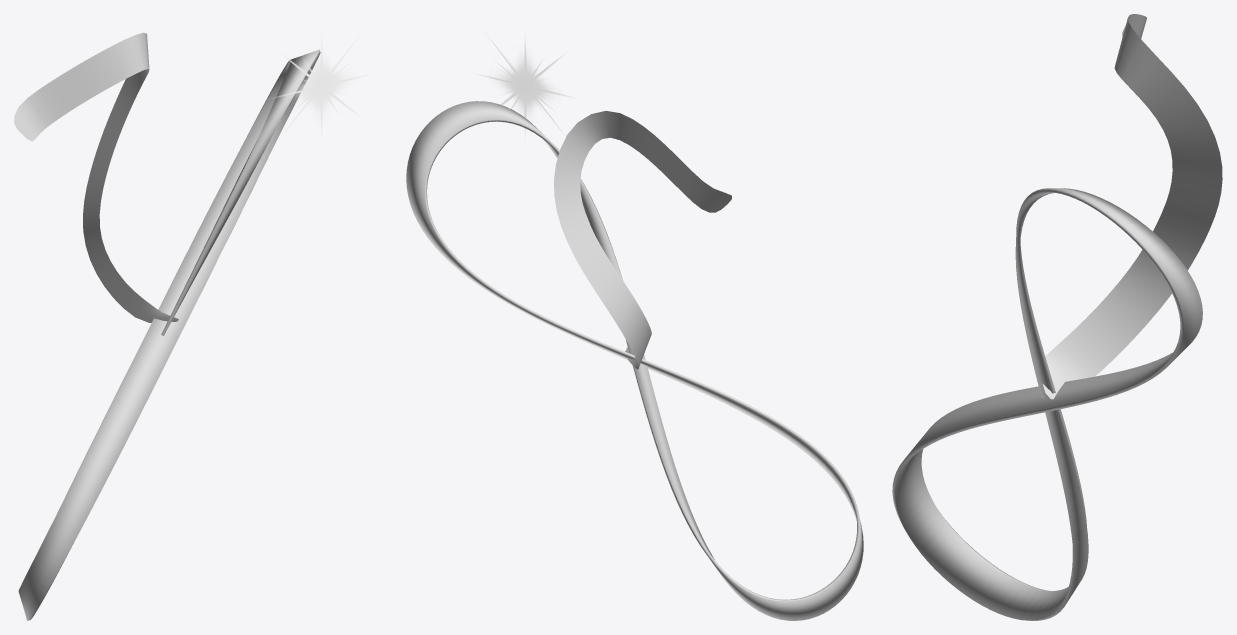
File: mebius3.glb
3 views of the same model, side by side, from view 1: azimuth 30°, elevation 25°; view 2: azimuth 150°, elevation 25°; view 3: azimuth 270°, elevation 25° (orthographic). The views are drawn at different scales.
Visible parts, largest first — view 1: MobiusInfinityLong.001, Plane, Shine-Download-Free-PNG; view 2: MobiusInfinityLong.001, Plane, Shine-Download-Free-PNG; view 3: MobiusInfinityLong.001, Plane.
Part boxes in pixels (x1,y1,x2,y2): MobiusInfinityLong.001: [18, 49, 320, 620]; Plane: [14, 32, 178, 322]; Shine-Download-Free-PNG: [272, 34, 370, 137]; MobiusInfinityLong.001: [406, 101, 863, 620]; Plane: [554, 111, 731, 369]; Shine-Download-Free-PNG: [477, 34, 573, 136]; MobiusInfinityLong.001: [892, 188, 1202, 620]; Plane: [1042, 14, 1222, 399].
Bounding box in the file's own units: 2.76 × 3.7 × 1.57.
Materials: 3 (1 with a texture image).
